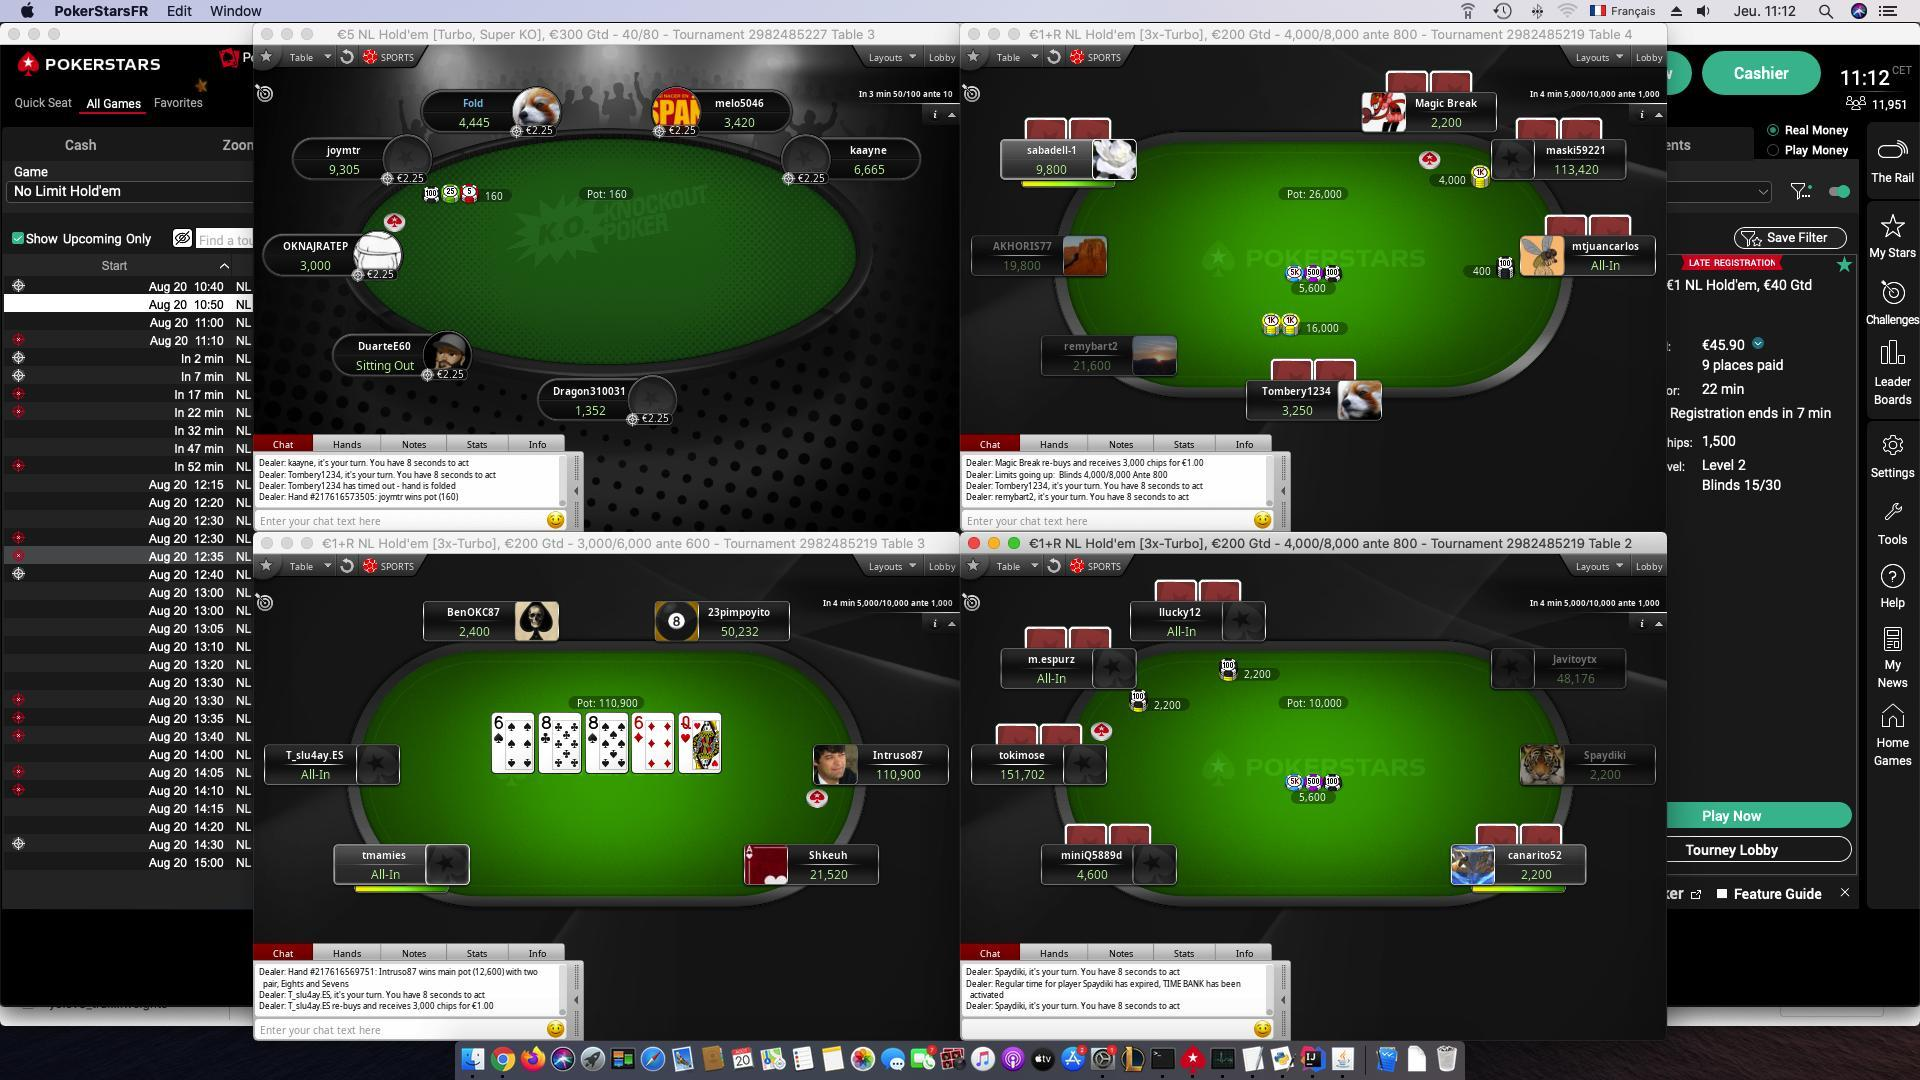6D: (630, 711, 645, 745)
6S: (491, 713, 506, 748)
8C: (538, 712, 553, 748)
8S: (582, 713, 600, 745)
QH: (676, 713, 694, 745)
